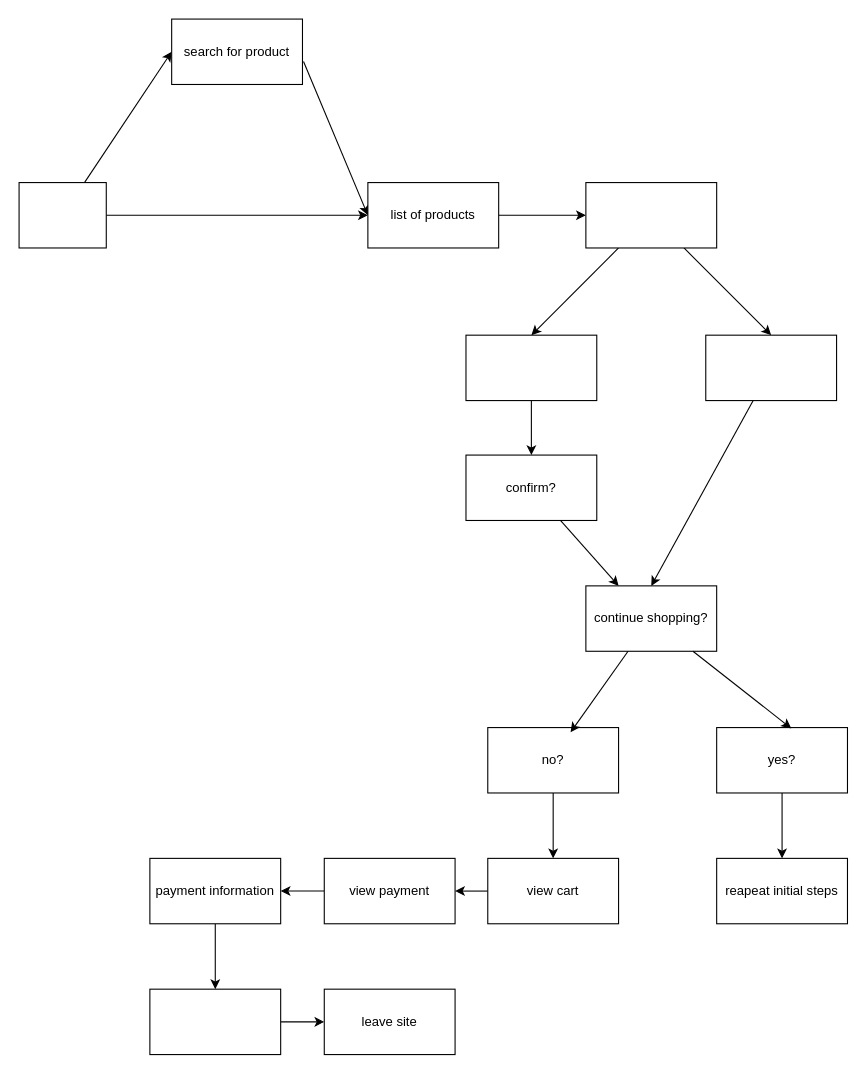
This 867x1074 diagram has some shape labels left out. Here are the shapes that lost their labels. From the top down, the centre of each, then its label:
At (x=62, y=214): "homepage w/ products".
At (x=651, y=214): "specific product".
At (x=531, y=367): "add to card".
At (x=771, y=367): "product page".
At (x=215, y=1021): "payment confirmation, email sent".
